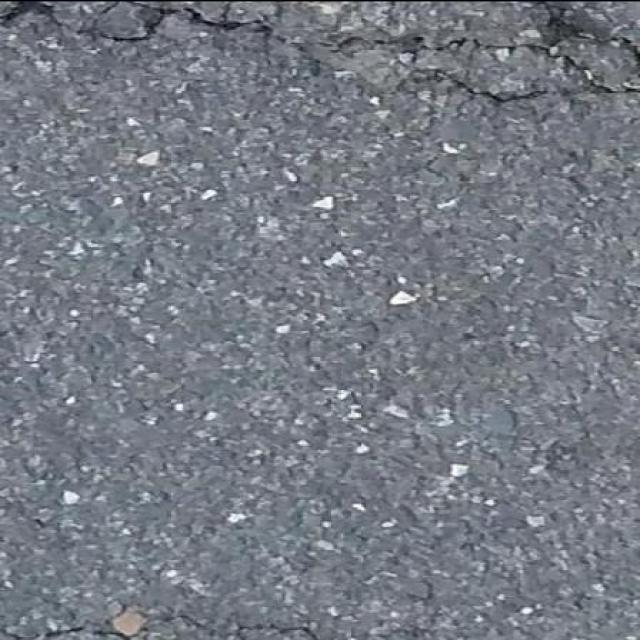Crack: (341, 0, 639, 95), (91, 0, 303, 50), (420, 68, 546, 102), (0, 626, 132, 640), (599, 35, 640, 66), (10, 0, 51, 18)
